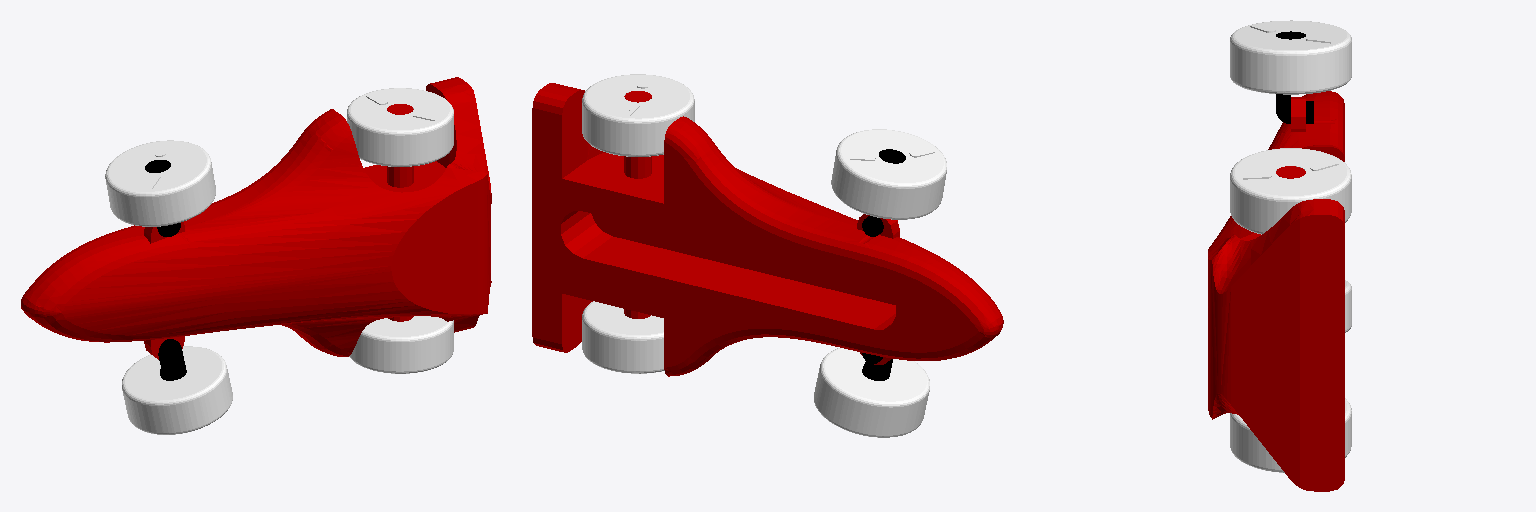
URDF robot description (botcar2):
<?xml version="1.0" encoding="utf-8"?>
<!-- This URDF was automatically created by SolidWorks to URDF Exporter! Originally created by [author] ([email redacted]) 
     Commit Version: 1.6.0-4-g7f85cfe  Build Version: 1.6.7995.38578
     For more information, please see http://wiki.ros.org/sw_urdf_exporter -->
<robot
  name="botcar2">
  
  <material name="black">
    <color rgba="0.0 0.0 0.0 1.0"/>
  </material>

  <material name="red">
    <color rgba="0.8 0.0 0.0 1.0"/>
  </material>

  <material name="white">
    <color rgba="1.0 1.0 1.0 1.0"/>
  </material>
  
  <link
    name="carbody_base_link">
  </link>
  
  <joint
    name="base_to_carbody_joint"
    type="fixed">
    <parent
      link="carbody_base_link"  />
    <child
      link="carbody_link"  />>
  </joint>
  
  <link
    name="carbody_link">
    <inertial>
      <origin
        xyz="-0.33507 -0.0031184 0.020174"
        rpy="0 0 0" />
      <mass
        value="30.054" />
      <inertia
        ixx="0.38386"
        ixy="0.015558"
        ixz="-0.11884"
        iyy="1.8292"
        iyz="-0.00072519"
        izz="1.9992" />
    </inertial>
    <visual>
      <origin
        xyz="0 0 0"
        rpy="0 0 0" />
      <geometry>
        <mesh
          filename="package://botcar2/meshes/carbody_link.STL" />
      </geometry>
      <material
        name="red">
      </material>
    </visual>
    <collision>
      <origin
        xyz="0 0 0"
        rpy="0 0 0" />
      <geometry>
        <mesh
          filename="package://botcar2/meshes/carbody_link.STL" />
      </geometry>
    </collision>
  </link>
  <link
    name="stubL_link">
    <inertial>
      <origin
        xyz="0.060775 0.013565 1.7938E-08"
        rpy="0 0 0" />
      <mass
        value="0.27873" />
      <inertia
        ixx="0"
        ixy="0"
        ixz="0"
        iyy="0.00058841"
        iyz="0"
        izz="0.00060561" />
    </inertial>
    <visual>
      <origin
        xyz="0 0 0"
        rpy="0 0 0" />
      <geometry>
        <mesh
          filename="package://botcar2/meshes/stubL_link.STL" />
      </geometry>
      <material
        name="black">
      </material>
    </visual>
    <collision>
      <origin
        xyz="0 0 0"
        rpy="0 0 0" />
      <geometry>
        <mesh
          filename="package://botcar2/meshes/stubL_link.STL" />
      </geometry>
    </collision>
  </link>
  <joint
    name="stubL_joint"
    type="revolute">
    <origin
      xyz="-0.67625 0 -0.12679"
      rpy="3.1416 1.3581 0" />
    <parent
      link="carbody_link" />
    <child
      link="stubL_link" />
    <axis
      xyz="0 -1 0" />
    <limit
      lower="-3.14"
      upper="3.14"
      effort="100"
      velocity="10" />
  </joint>
  <link
    name="wheelFL_link">
    <inertial>
      <origin
        xyz="-5.5511E-17 1.1102E-16 0.034643"
        rpy="0 0 0" />
      <mass
        value="2.6707" />
      <inertia
        ixx="0.0085536"
        ixy="0"
        ixz="0"
        iyy="0.0085633"
        iyz="0"
        izz="0.014556" />
    </inertial>
    <visual>
      <origin
        xyz="0 0 0"
        rpy="0 0 0" />
      <geometry>
        <mesh
          filename="package://botcar2/meshes/wheelFL_link.STL" />
      </geometry>
      <material
        name="white">
      </material>
    </visual>
    <collision>
      <origin
        xyz="0 0 0"
        rpy="0 0 0" />
      <geometry>
        <mesh
          filename="package://botcar2/meshes/wheelFL_link.STL" />
      </geometry>
    </collision>
  </link>
  <joint
    name="wheelFL_joint"
    type="continuous">
    <origin
      xyz="0.060657 0.014439 0"
      rpy="-1.5708 -0.64241 -1.5708" />
    <parent
      link="stubL_link" />
    <child
      link="wheelFL_link" />
    <axis
      xyz="0 0 1" />
  </joint>
  <link
    name="stubR_link">
    <inertial>
      <origin
        xyz="0.060775 0.013565 1.7438E-08"
        rpy="0 0 0" />
      <mass
        value="0.27873" />
      <inertia
        ixx="0"
        ixy="0"
        ixz="0"
        iyy="0.00058841"
        iyz="0"
        izz="0.00060561" />
    </inertial>
    <visual>
      <origin
        xyz="0 0 0"
        rpy="0 0 0" />
      <geometry>
        <mesh
          filename="package://botcar2/meshes/stubR_link.STL" />
      </geometry>
      <material
        name="black">
      </material>
    </visual>
    <collision>
      <origin
        xyz="0 0 0"
        rpy="0 0 0" />
      <geometry>
        <mesh
          filename="package://botcar2/meshes/stubR_link.STL" />
      </geometry>
    </collision>
  </link>
  <joint
    name="stubR_joint"
    type="revolute">
    <origin
      xyz="-0.67625 0 0.12679"
      rpy="0 -1.4018 3.1416" />
    <parent
      link="carbody_link" />
    <child
      link="stubR_link" />
    <axis
      xyz="0 -1 0" />
    <limit
      lower="-3.14"
      upper="3.14"
      effort="100"
      velocity="10" />
  </joint>
  <link
    name="wheelFR_link">
    <inertial>
      <origin
        xyz="0 1.1102E-16 0.035923"
        rpy="0 0 0" />
      <mass
        value="2.6707" />
      <inertia
        ixx="0.0085536"
        ixy="0"
        ixz="0"
        iyy="0.0085633"
        iyz="0"
        izz="0.014556" />
    </inertial>
    <visual>
      <origin
        xyz="0 0 0"
        rpy="0 0 0" />
      <geometry>
        <mesh
          filename="package://botcar2/meshes/wheelFR_link.STL" />
      </geometry>
      <material
        name="white">
      </material>
    </visual>
    <collision>
      <origin
        xyz="0 0 0"
        rpy="0 0 0" />
      <geometry>
        <mesh
          filename="package://botcar2/meshes/wheelFR_link.STL" />
      </geometry>
    </collision>
  </link>
  <joint
    name="wheelFR_joint"
    type="continuous">
    <origin
      xyz="0.059377 0.014439 0"
      rpy="1.5708 0.64981 1.5708" />
    <parent
      link="stubR_link" />
    <child
      link="wheelFR_link" />
    <axis
      xyz="0 0 1" />
  </joint>
  <link
    name="wheelRR_link">
    <inertial>
      <origin
        xyz="-6.9389E-18 0 0.03815"
        rpy="0 0 0" />
      <mass
        value="2.6707" />
      <inertia
        ixx="0.0085536"
        ixy="0"
        ixz="0"
        iyy="0.0085633"
        iyz="0"
        izz="0.014556" />
    </inertial>
    <visual>
      <origin
        xyz="0 0 0"
        rpy="0 0 0" />
      <geometry>
        <mesh
          filename="package://botcar2/meshes/wheelRR_link.STL" />
      </geometry>
      <material
        name="white">
      </material>
    </visual>
    <collision>
      <origin
        xyz="0 0 0"
        rpy="0 0 0" />
      <geometry>
        <mesh
          filename="package://botcar2/meshes/wheelRR_link.STL" />
      </geometry>
    </collision>
  </link>
  <joint
    name="wheelRR_joint"
    type="continuous">
    <origin
      xyz="-0.16858 -0.014439 0.1778"
      rpy="0 0 1.9221" />
    <parent
      link="carbody_link" />
    <child
      link="wheelRR_link" />
    <axis
      xyz="0 0 1" />
  </joint>
  <link
    name="wheelRL_link">
    <inertial>
      <origin
        xyz="0 0 0.03815"
        rpy="0 0 0" />
      <mass
        value="2.6707" />
      <inertia
        ixx="0.0085536"
        ixy="0"
        ixz="0"
        iyy="0.0085633"
        iyz="0"
        izz="0.014556" />
    </inertial>
    <visual>
      <origin
        xyz="0 0 0"
        rpy="0 0 0" />
      <geometry>
        <mesh
          filename="package://botcar2/meshes/wheelRL_link.STL" />
      </geometry>
      <material
        name="white">
      </material>
    </visual>
    <collision>
      <origin
        xyz="0 0 0"
        rpy="0 0 0" />
      <geometry>
        <mesh
          filename="package://botcar2/meshes/wheelRL_link.STL" />
      </geometry>
    </collision>
  </link>
  <joint
    name="wheelRL_joint"
    type="continuous">
    <origin
      xyz="-0.16858 -0.014439 -0.1778"
      rpy="-3.1416 0 2.7121" />
    <parent
      link="carbody_link" />
    <child
      link="wheelRL_link" />
    <axis
      xyz="0 0 -1" />
  </joint>
  
  <gazebo reference="carbody_link">
    <material>Gazebo/Red</material>
  </gazebo>
  <gazebo reference="stubL_link">
    <material>Gazebo/Black</material>
  </gazebo>
  <gazebo reference="stubR_link">
    <material>Gazebo/Black</material>
  </gazebo>
  <gazebo reference="wheelFR_link">
    <material>Gazebo/White</material>
  </gazebo>
  <gazebo reference="wheelFL_link">
    <material>Gazebo/White</material>
  </gazebo>
  <gazebo reference="wheelRR_link">
    <material>Gazebo/White</material>
  </gazebo>
  <gazebo reference="wheelRL_link">
    <material>Gazebo/White</material>
  </gazebo>

  
  <transmission name="steerR_trans">
    <type>transmission_interface/SimpleTransmission</type>
    <joint name="stubR_joint">
      <hardwareInterface>hardware_interface/PositionJointInterface</hardwareInterface>
    </joint>
    <actuator name="steerR_motor">
      <mechanicalReduction>50</mechanicalReduction>
      <hardwareInterface>hardware_interface/PositionJointInterface</hardwareInterface>
    </actuator>
  </transmission>
  
  <transmission name="steerL_trans">
    <type>transmission_interface/SimpleTransmission</type>
    <joint name="stubL_joint">
      <hardwareInterface>hardware_interface/PositionJointInterface</hardwareInterface>
    </joint>
    <actuator name="steerL_motor">
      <mechanicalReduction>50</mechanicalReduction>
      <hardwareInterface>hardware_interface/PositionJointInterface</hardwareInterface>
    </actuator>
  </transmission>
  
  <transmission name="wheelR_trans">
    <type>transmission_interface/SimpleTransmission</type>
    <joint name="wheelRR_joint">
      <hardwareInterface>hardware_interface/VelocityJointInterface</hardwareInterface>
    </joint>
    <actuator name="driveR_motor">
      <mechanicalReduction>50</mechanicalReduction>
      <hardwareInterface>hardware_interface/VelocityJointInterface</hardwareInterface>
    </actuator>
  </transmission>
  
  <transmission name="wheelL_trans">
    <type>transmission_interface/SimpleTransmission</type>
    <joint name="wheelRL_joint">
      <hardwareInterface>hardware_interface/VelocityJointInterface</hardwareInterface>
    </joint>
    <actuator name="driveL_motor">
      <mechanicalReduction>50</mechanicalReduction>
      <hardwareInterface>hardware_interface/VelocityJointInterface</hardwareInterface>
    </actuator>
  </transmission>
</robot>

--- What the picture shows (computed from the rendered views, not written in the file) ---
The picture shows the robot from 3 angles, left to right: view 1: azimuth 30°, elevation 25°; view 2: azimuth 150°, elevation 25°; view 3: azimuth 270°, elevation 25°; orthographic projection.
Robot: botcar2 — 8 links, 7 joints (2 revolute, 4 continuous, 1 fixed); root link carbody_base_link; default pose: every joint at zero.
Links seen in each view (by area): view 1: carbody_link, wheelFR_link, wheelFL_link, wheelRR_link, wheelRL_link, stubL_link; view 2: carbody_link, wheelFR_link, wheelFL_link, wheelRR_link, wheelRL_link, stubR_link, stubL_link; view 3: carbody_link, wheelFR_link, wheelRR_link, wheelRL_link, stubR_link.
Link boxes in pixels (left/top/right/bottom): carbody_link: left=21, top=77, right=491, bottom=359; wheelFR_link: left=105, top=140, right=215, bottom=226; wheelFL_link: left=122, top=346, right=232, bottom=434; wheelRR_link: left=347, top=88, right=453, bottom=166; wheelRL_link: left=349, top=316, right=453, bottom=373; stubL_link: left=158, top=339, right=186, bottom=380; carbody_link: left=532, top=83, right=1003, bottom=376; wheelFR_link: left=831, top=129, right=946, bottom=219; wheelFL_link: left=814, top=348, right=929, bottom=437; wheelRR_link: left=582, top=74, right=694, bottom=156; wheelRL_link: left=582, top=301, right=664, bottom=373; stubR_link: left=862, top=149, right=905, bottom=236; stubL_link: left=862, top=353, right=892, bottom=380; carbody_link: left=1208, top=91, right=1344, bottom=491; wheelFR_link: left=1230, top=20, right=1351, bottom=94; wheelRR_link: left=1230, top=148, right=1351, bottom=234; wheelRL_link: left=1230, top=398, right=1351, bottom=472; stubR_link: left=1276, top=31, right=1313, bottom=123.
Size in the robot's own frame: 0.9576 by 0.2396 by 0.5511 metres.
7 mesh visuals loaded from 7 distinct referenced files (7 binary STL).